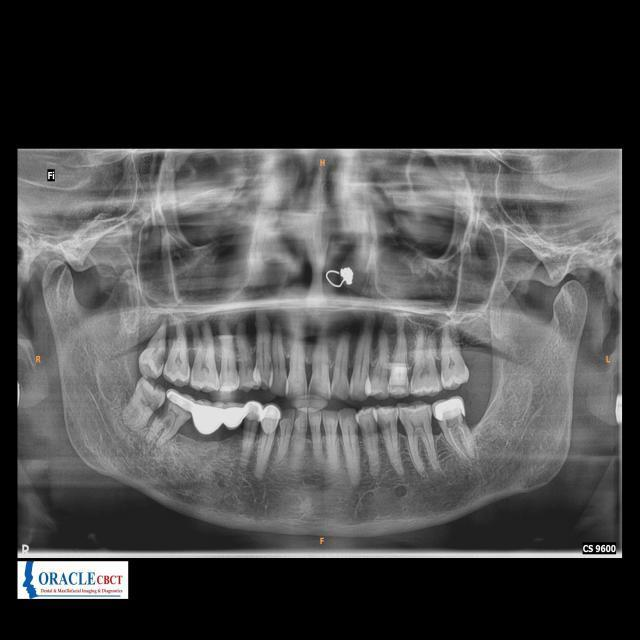dolgu: (391, 366, 409, 394)
kanal-tedavisi: (450, 422, 470, 458)
kaplama: (164, 388, 197, 420), (435, 397, 467, 423), (260, 401, 279, 430), (245, 398, 262, 422)
kopru: (191, 396, 244, 440)
